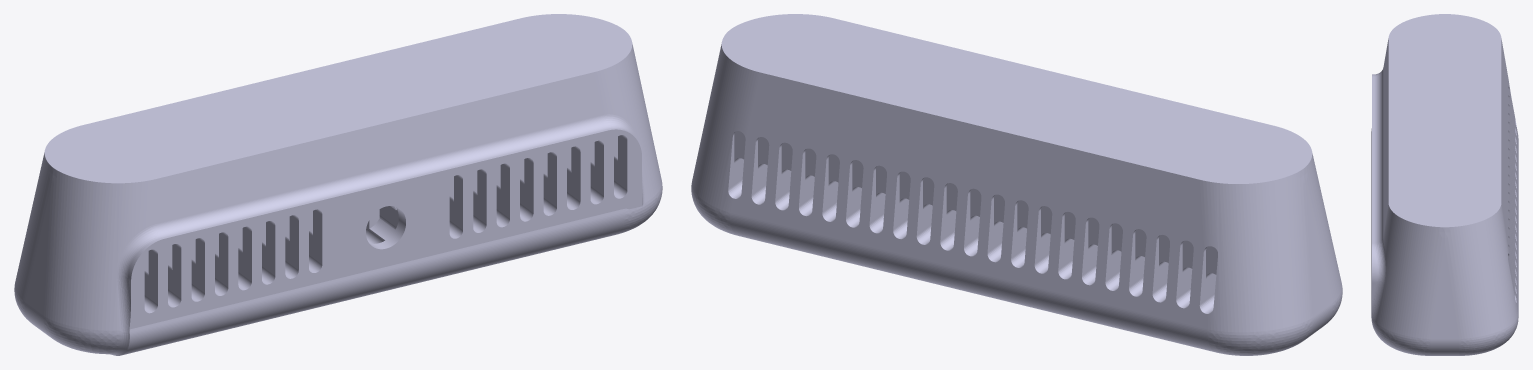
The model's file is realsense_d435_top.dae.
3 views of the same model, side by side, from view 1: azimuth 30°, elevation 25°; view 2: azimuth 150°, elevation 25°; view 3: azimuth 270°, elevation 25° (orthographic). The views are drawn at different scales.
Visible parts, largest first — view 1: node0, node6; view 2: node0, node6; view 3: node0, node6.
Boxes of the visible parts, bbox=[...] form: node0: bbox=[14, 14, 662, 355]; node6: bbox=[56, 19, 620, 178]; node0: bbox=[691, 14, 1342, 355]; node6: bbox=[733, 19, 1300, 179]; node0: bbox=[1371, 14, 1518, 355]; node6: bbox=[1397, 17, 1492, 223].
Bounding box in the file's own units: 0.0907 × 0.0247 × 0.0241.
